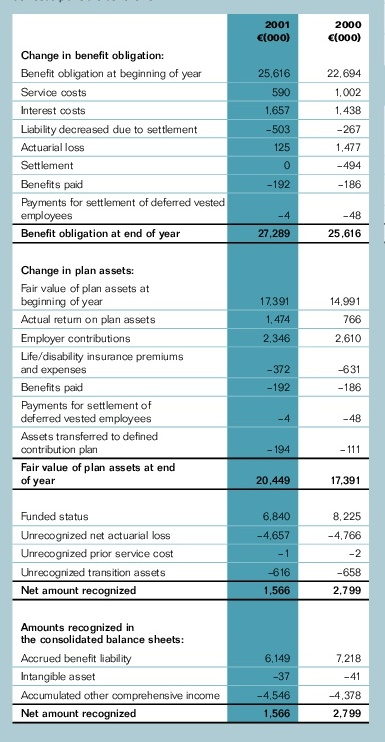table: (0, 0, 385, 742)
